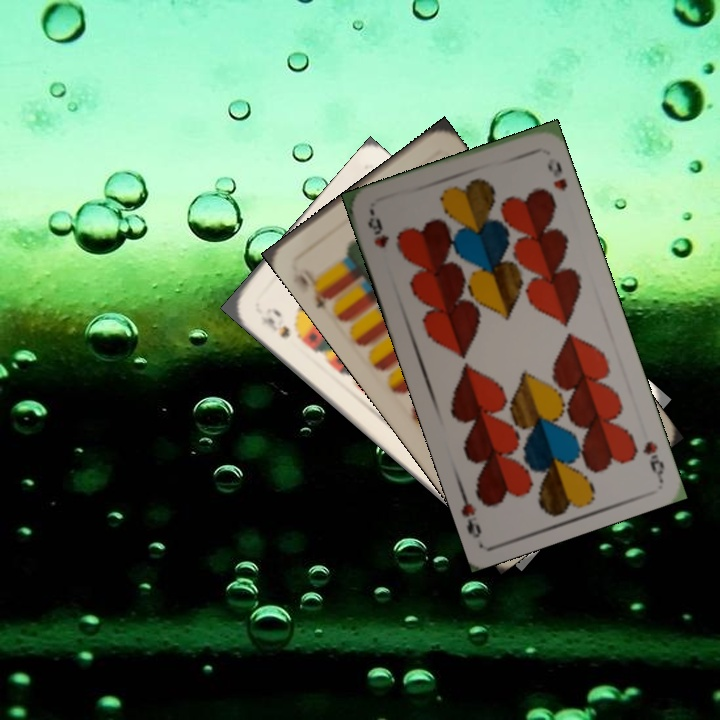E10: (287, 259, 336, 312)
H9: (363, 209, 393, 251), (638, 437, 667, 480)
S10: (256, 312, 293, 341)
